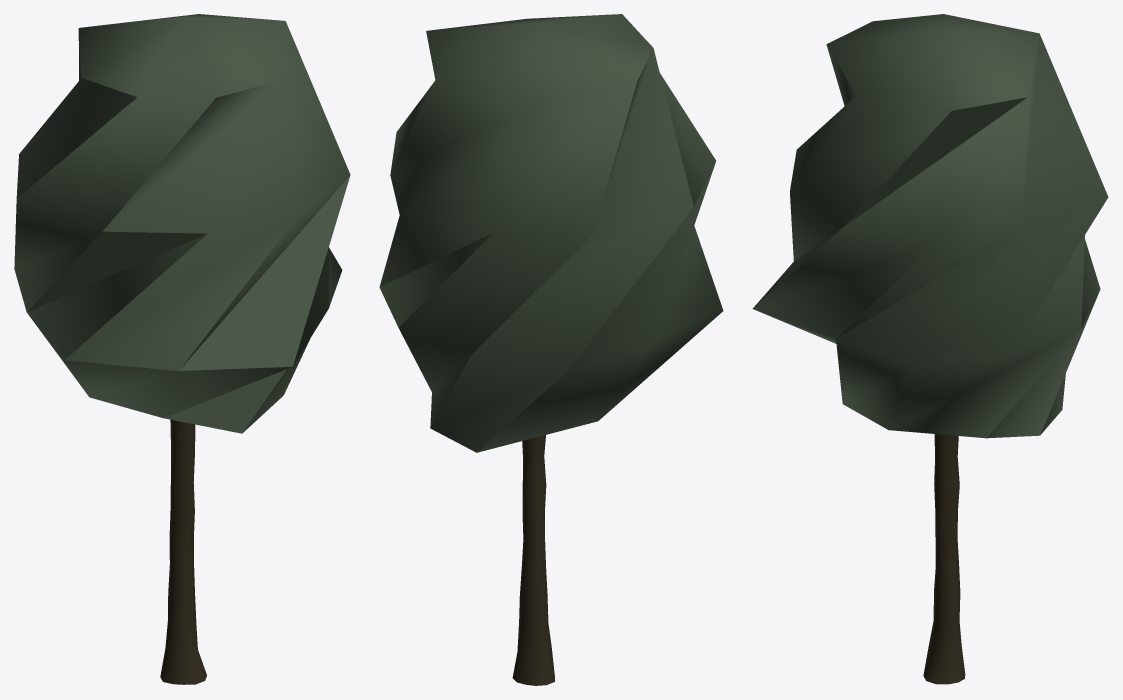
The model's file is tree2.fbx.
3 views of the same model, side by side, from view 1: azimuth 30°, elevation 25°; view 2: azimuth 150°, elevation 25°; view 3: azimuth 270°, elevation 25° (orthographic). The views are drawn at different scales.
Parts seen in each view (by area): view 1: tree_5; view 2: tree_5; view 3: tree_5.
Boxes of the visible parts, x1=… form: tree_5: x1=14, y1=14, x2=350, y2=684; tree_5: x1=379, y1=14, x2=723, y2=685; tree_5: x1=752, y1=14, x2=1108, y2=684.
Size of the model in its own units: 408 by 843 by 419.
Materials: 1 (1 with a texture image).
